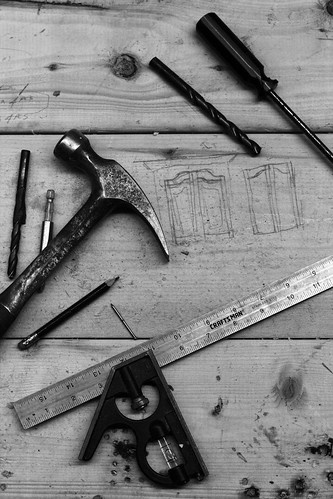hammer: (0, 129, 172, 339)
